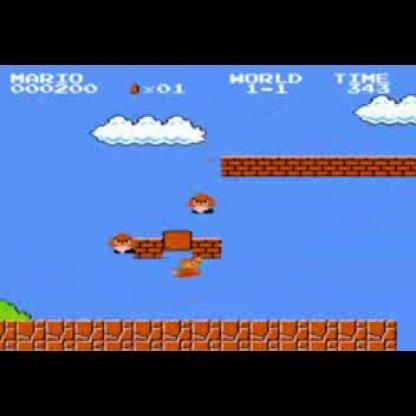Goomba: (107, 228, 134, 256), (187, 191, 216, 216)
Hoyo: (393, 319, 415, 353)
